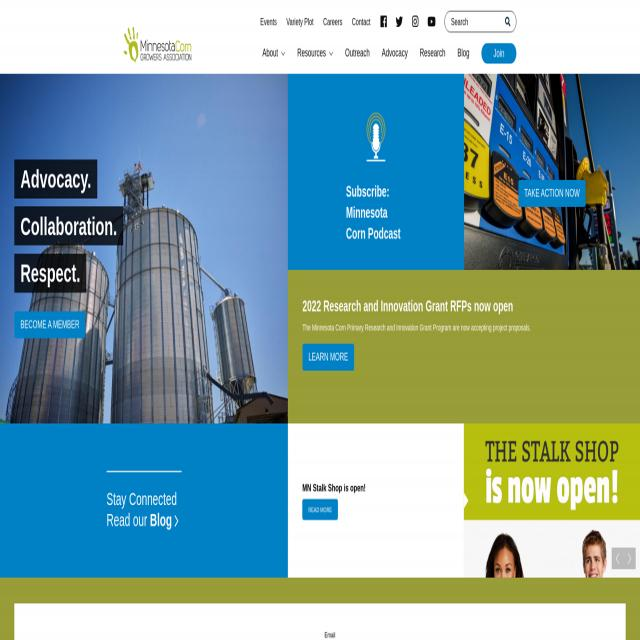button: (0, 424, 288, 578), (464, 423, 640, 521), (354, 100, 398, 181), (124, 27, 190, 63), (291, 32, 339, 74), (15, 312, 86, 338), (518, 180, 586, 207), (376, 32, 414, 73), (414, 32, 452, 73), (339, 32, 376, 74), (257, 32, 292, 74), (302, 344, 354, 371), (452, 32, 476, 74), (303, 499, 338, 519), (482, 43, 516, 63), (499, 11, 517, 32), (624, 548, 636, 568), (612, 549, 622, 569), (426, 15, 436, 28), (395, 15, 404, 28), (381, 15, 387, 28), (412, 15, 418, 28)
field: (444, 11, 516, 32)
